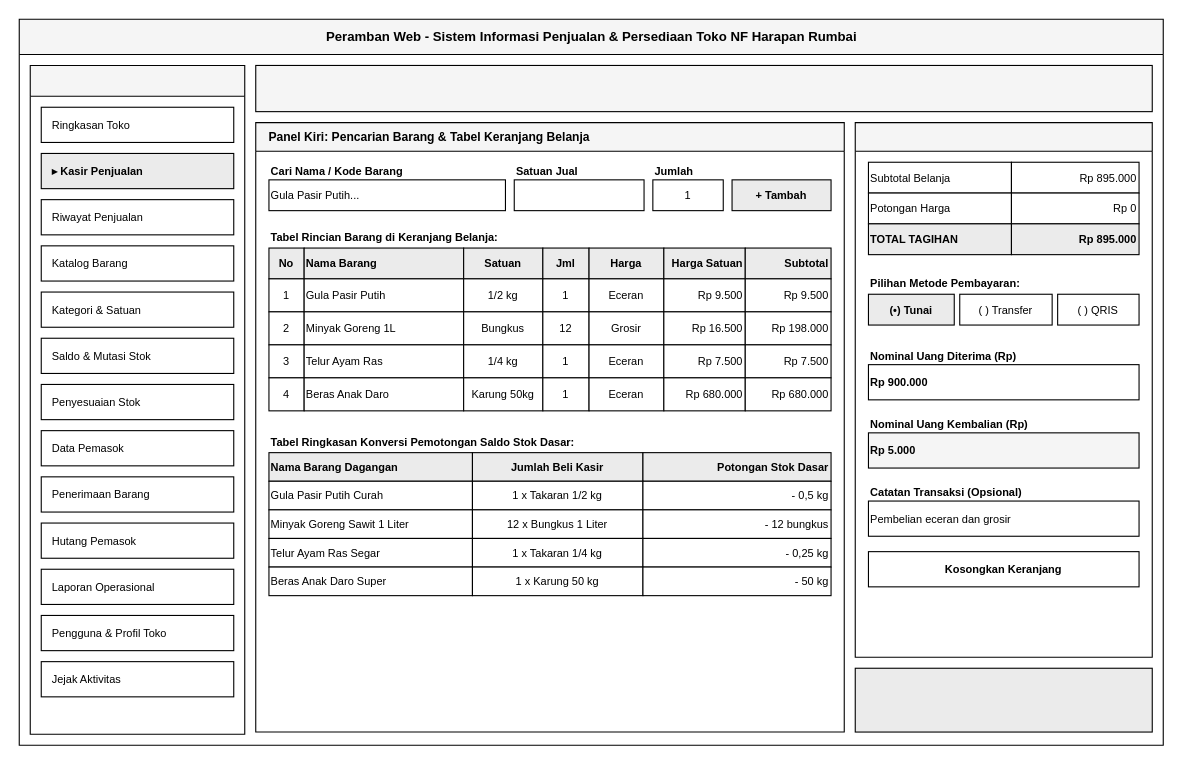
Image size: 1183x765. Some labels were removed from this diagram. Each missing label, with the box of its shape:
1/2 kg ▾: (513, 179, 644, 211)
Halaman Transaksi Penjualan Kasir (Point of Sale): (255, 64, 1152, 112)
Menu Navigasi: (29, 64, 245, 734)
Panel Kanan: Tagihan & Pembayaran: (854, 122, 1152, 657)
SELESAIKAN TRANSAKSI & CETAK STRUK: (854, 667, 1152, 732)
